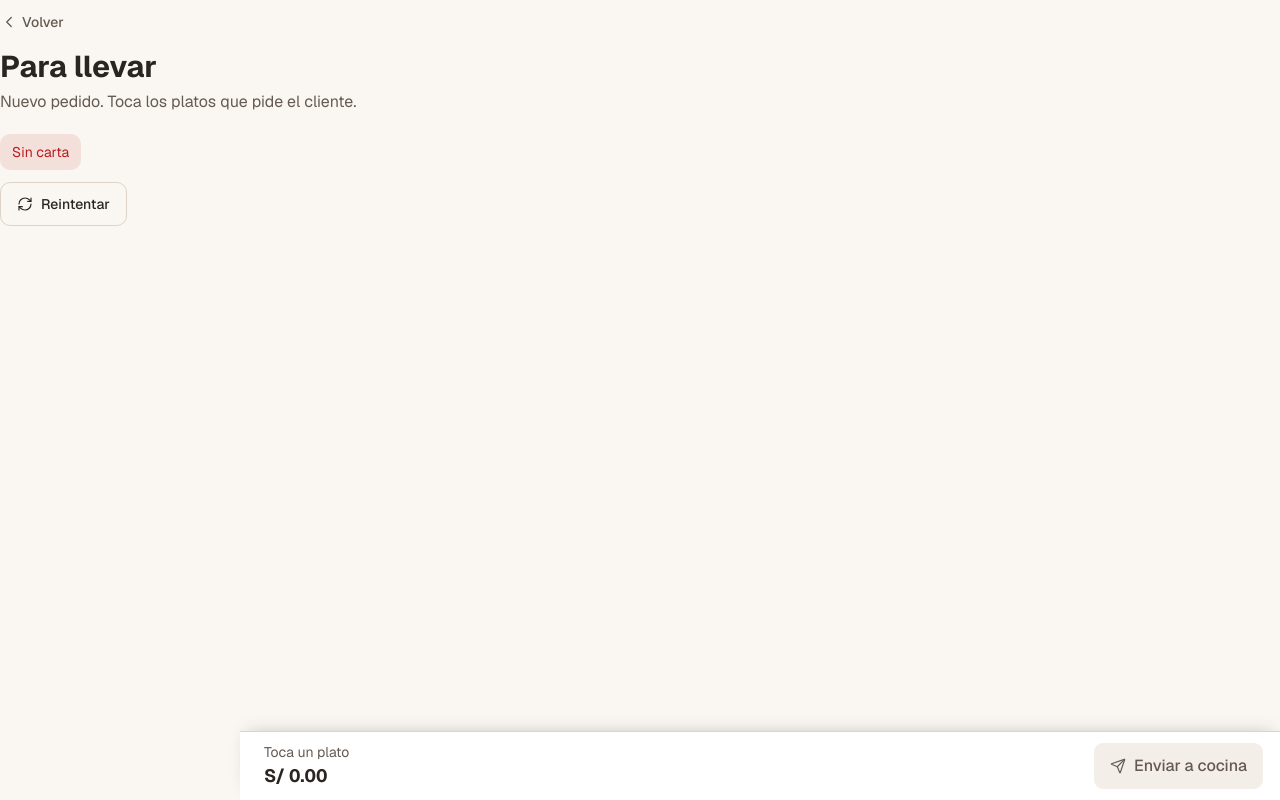
Test: la carta para tomar el pedido › si la carta no carga, lo dice y deja reintentar
Expected: the text "Sin carta" is shown, [0, 134, 81, 170]
Click the button "Reintentar".
click(63, 204)  # box [0, 182, 127, 226]
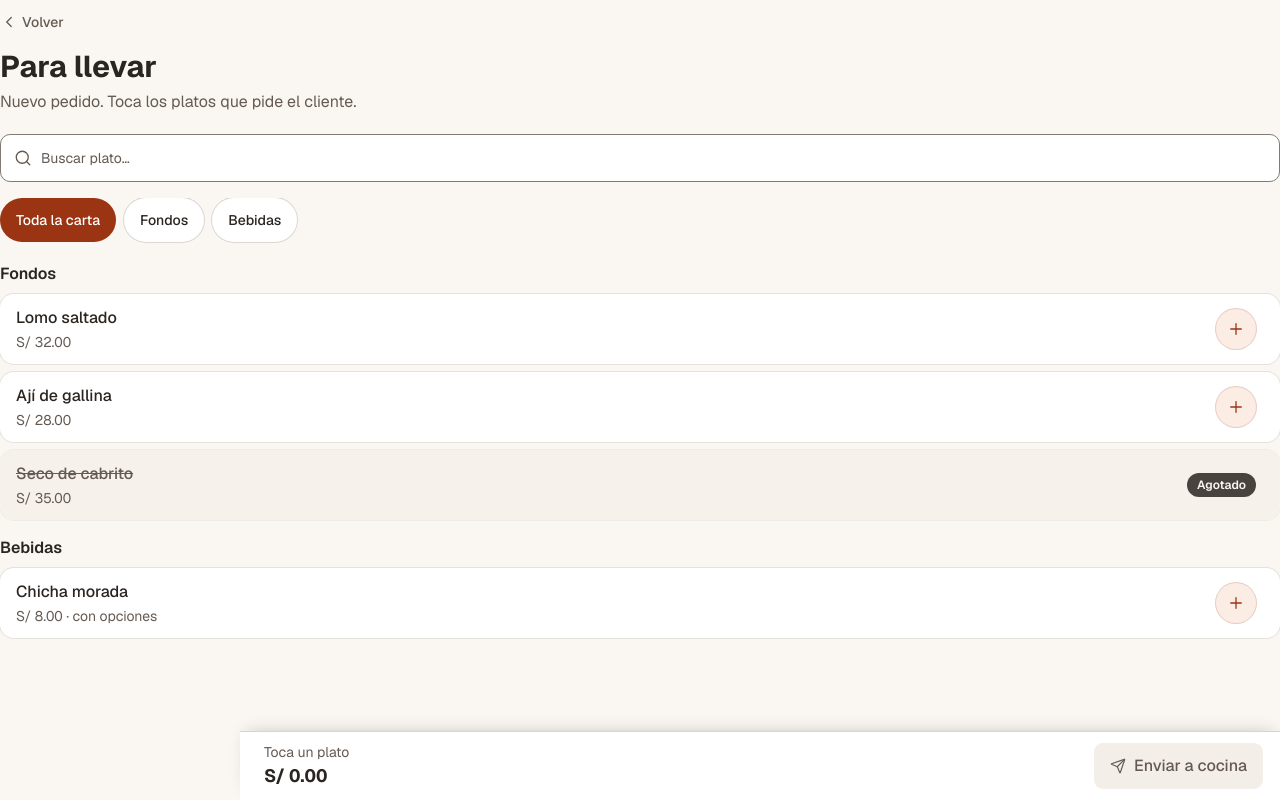
Result: the button "Lomo saltado S/ 32.00" is shown at [0, 294, 1272, 364]
